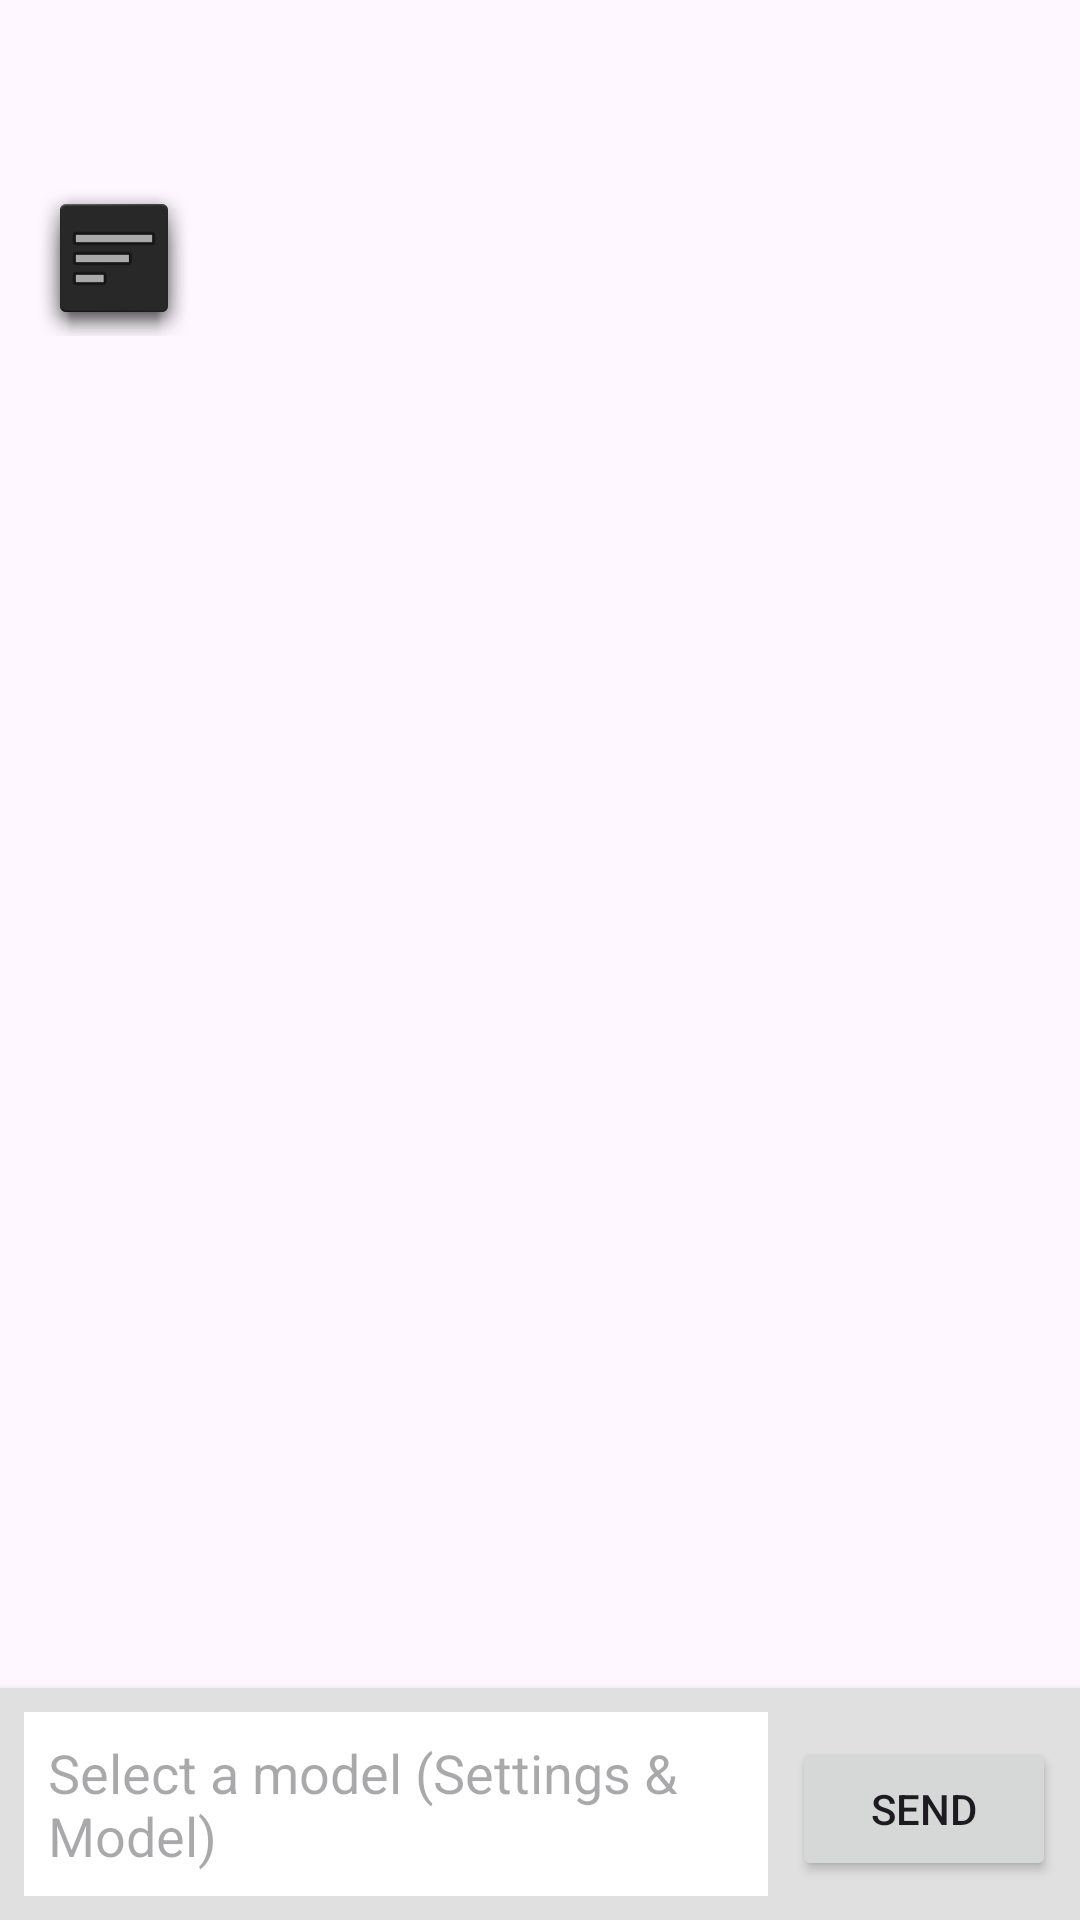

Icon click points for this 1080*1920 phone screenshot, format [x,y]:
Menu: [114,266]
